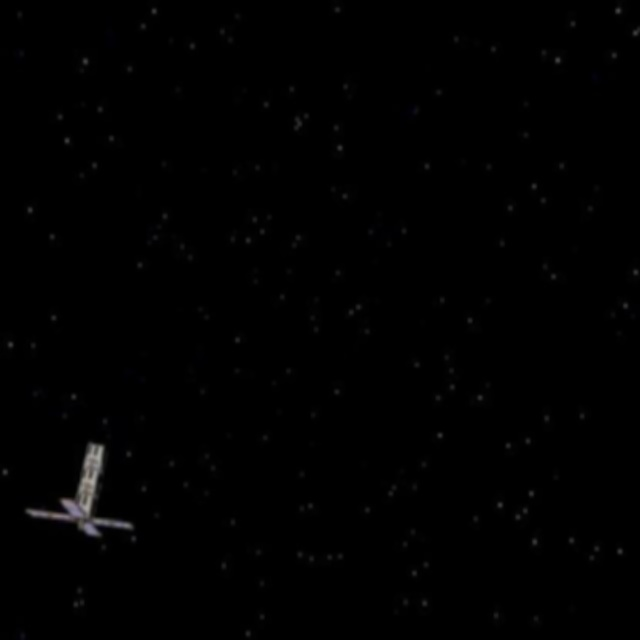satellite: (23, 434, 154, 550)
